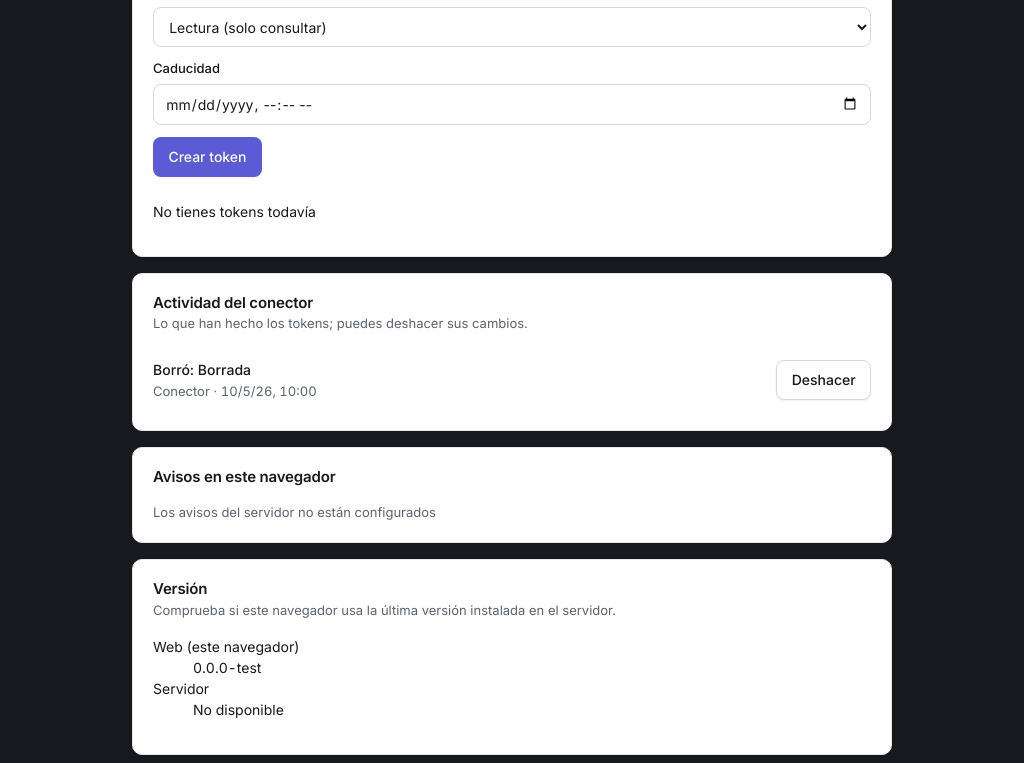
Scenario: Ajustes › muestra el mensaje del servidor si no se puede deshacer
The width and height of the screenshot is (1024, 763).
(page scrolled)
Check: the text "Borró: Borrada" is shown, box [153,361,251,378]
Click the button "Deshacer".
click(824, 380)  # box [776,360,871,400]
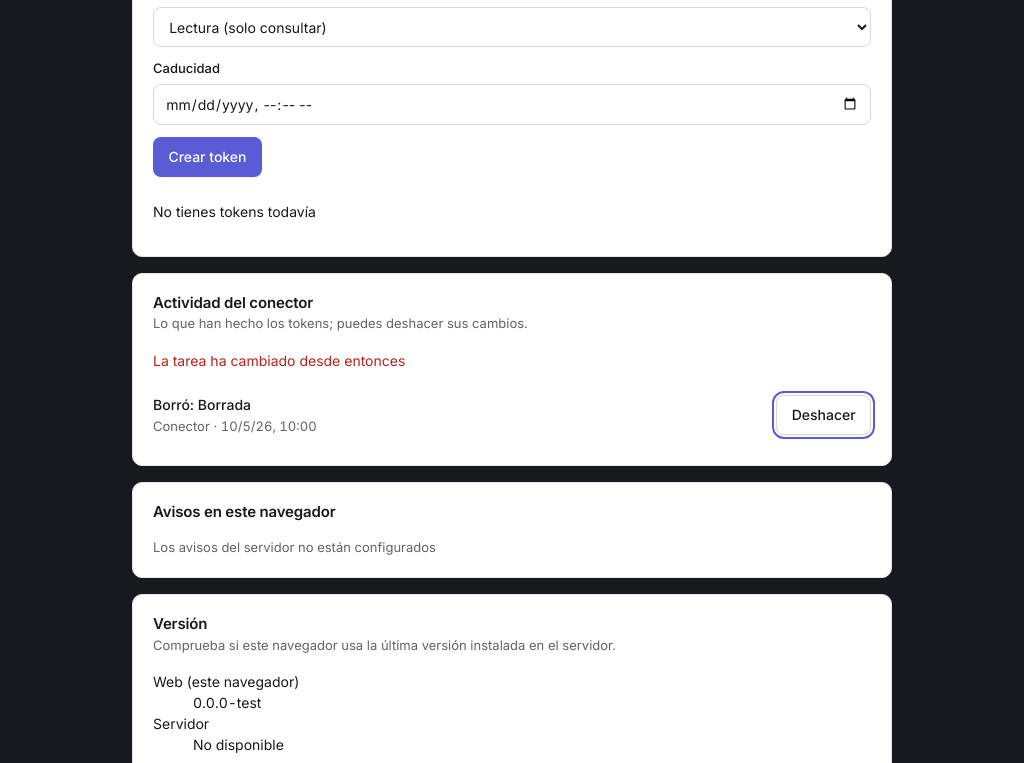
Check: the text "La tarea ha cambiado desde entonces" is shown, box [153,352,405,369]
